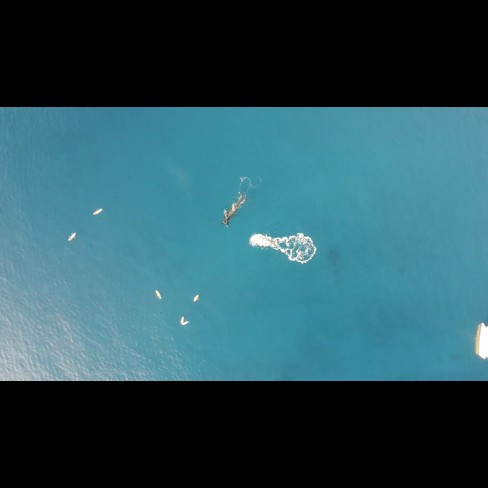hump: (218, 190, 251, 233)
